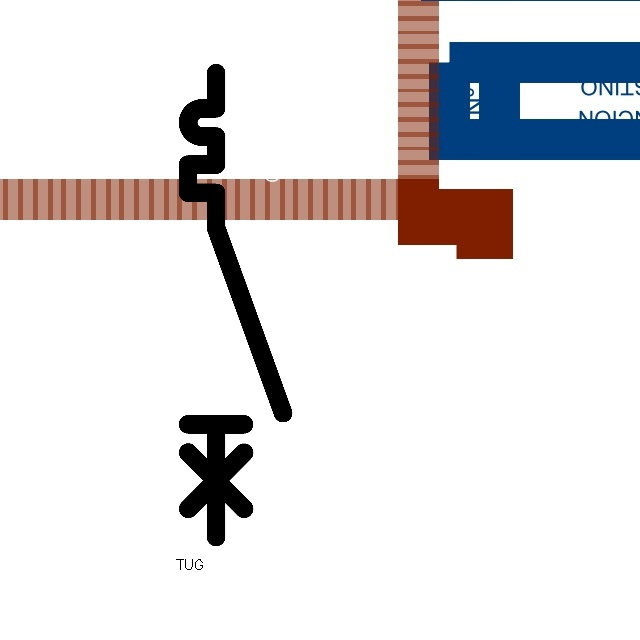interruptor_termomagnetico: (176, 61, 295, 549)
